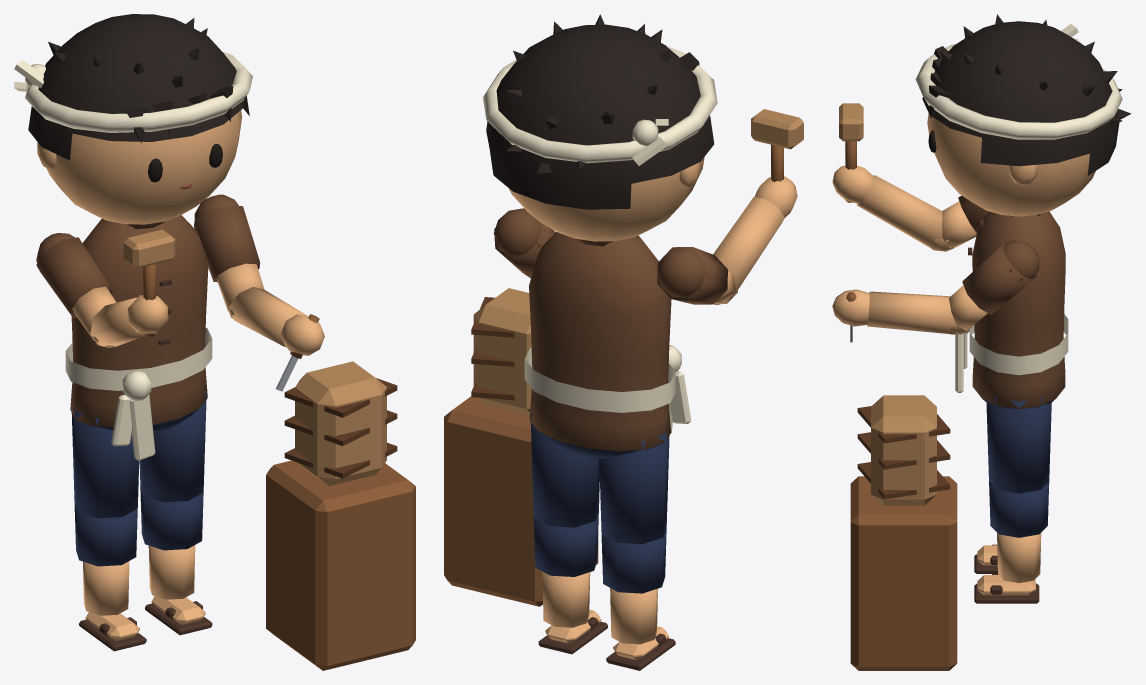
The model's file is north_wood_carver.glb.
3 views of the same model, side by side, from view 1: azimuth 30°, elevation 25°; view 2: azimuth 150°, elevation 25°; view 3: azimuth 270°, elevation 25° (orthographic). The views are drawn at different scales.
Visible parts, largest first — view 1: prop_carving_block, head, body, shin_L, shin_R, leg_R, arm_L, leg_L, arm_R, forearm_L, forearm_R, prop_mallet; view 2: head, body, prop_carving_block, shin_R, shin_L, leg_R, leg_L, forearm_R, arm_R, arm_L, prop_mallet; view 3: head, prop_carving_block, body, shin_L, leg_L, arm_L, forearm_R, forearm_L, arm_R, prop_mallet, shin_R.
Part boxes in pixels (x1,y1,x2,y2): prop_carving_block: (266,361,415,670); head: (14,14,252,224); body: (65,215,212,460); shin_L: (140,486,212,635); shin_R: (74,503,146,651); leg_R: (71,407,139,518); arm_L: (194,194,264,324); leg_L: (139,391,206,502); arm_R: (36,233,116,347); forearm_L: (227,286,324,355); forearm_R: (89,295,168,346); prop_mallet: (123,229,175,336); head: (483,14,717,241); body: (524,231,691,459); prop_carving_block: (444,288,598,606); shin_R: (601,527,675,670); shin_L: (533,511,607,654); leg_R: (599,430,669,544); leg_L: (530,413,599,527); forearm_R: (713,176,797,304); arm_R: (657,247,737,304); arm_L: (493,208,555,278); prop_mallet: (751,109,803,181); head: (915,14,1130,216); prop_carving_block: (850,395,957,670); body: (955,211,1068,409); shin_L: (974,481,1049,603); leg_L: (986,397,1051,493); arm_L: (949,240,1039,334); forearm_R: (832,165,953,250); forearm_L: (832,289,971,334); arm_R: (929,195,988,251); prop_mallet: (839,103,863,202); shin_R: (974,544,997,573).
Bounding box in the file's own units: 0.7554 × 1.5 × 0.7279.
